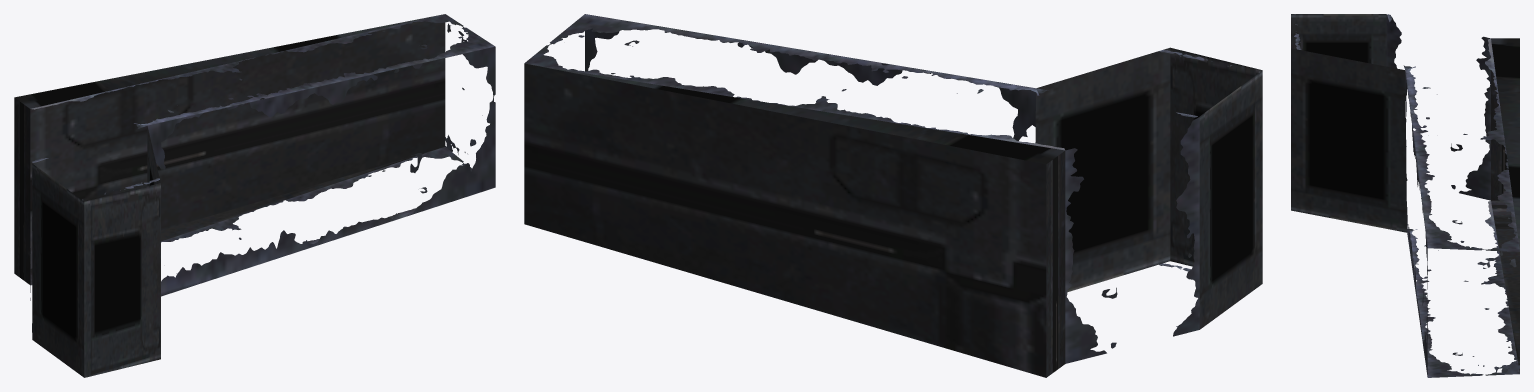
File: t6_attach_optic_rangefinder_world_LOD2.obj
3 renders of one model, left to right at view 1: azimuth 30°, elevation 25°; view 2: azimuth 150°, elevation 25°; view 3: azimuth 270°, elevation 25°, orthographic. The views are drawn at different scales.
Parts seen in each view (by area): view 1: mtl_t6_attach_optic_rangefinder_camo1, mtl_t6_attach_optic_rangefinder_camo2; view 2: mtl_t6_attach_optic_rangefinder_camo1, mtl_t6_attach_optic_rangefinder_camo2; view 3: mtl_t6_attach_optic_rangefinder_camo1.
Part boxes in pixels (bbox=[...]): mtl_t6_attach_optic_rangefinder_camo1: bbox=[14, 14, 495, 377]; mtl_t6_attach_optic_rangefinder_camo2: bbox=[32, 124, 160, 377]; mtl_t6_attach_optic_rangefinder_camo1: bbox=[524, 14, 1262, 377]; mtl_t6_attach_optic_rangefinder_camo2: bbox=[1036, 47, 1262, 326]; mtl_t6_attach_optic_rangefinder_camo1: bbox=[1291, 14, 1519, 377].
Bounding box in the file's own units: 14.16 × 4.91 × 6.29.
